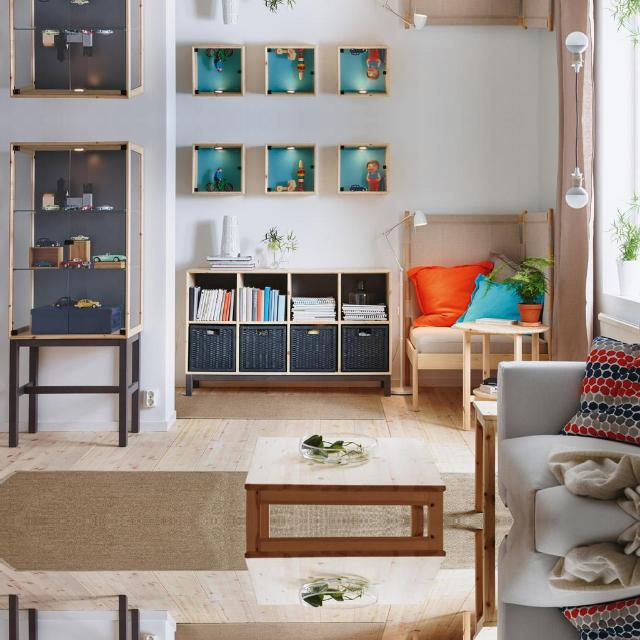couch: (498, 362, 640, 520), (498, 522, 640, 640)
dresser: (185, 268, 392, 396)
lamp: (382, 210, 428, 395), (565, 119, 589, 208), (565, 30, 589, 119), (382, 0, 428, 28)
pillow: (560, 336, 640, 445), (408, 260, 494, 326), (560, 597, 640, 640), (456, 273, 521, 321)
plant: (488, 255, 554, 325), (612, 209, 640, 296), (261, 228, 296, 265), (612, 0, 640, 29), (262, 0, 285, 10)
rug: (0, 472, 246, 520), (0, 522, 246, 570)
shelf: (9, 142, 144, 445), (10, 0, 144, 96), (192, 142, 245, 194), (192, 44, 245, 96), (265, 143, 318, 194), (265, 44, 318, 95), (338, 143, 390, 193), (338, 45, 390, 95)
table: (245, 436, 445, 520), (245, 522, 445, 605), (455, 322, 549, 428)
vase: (221, 215, 241, 256), (223, 0, 239, 23)
